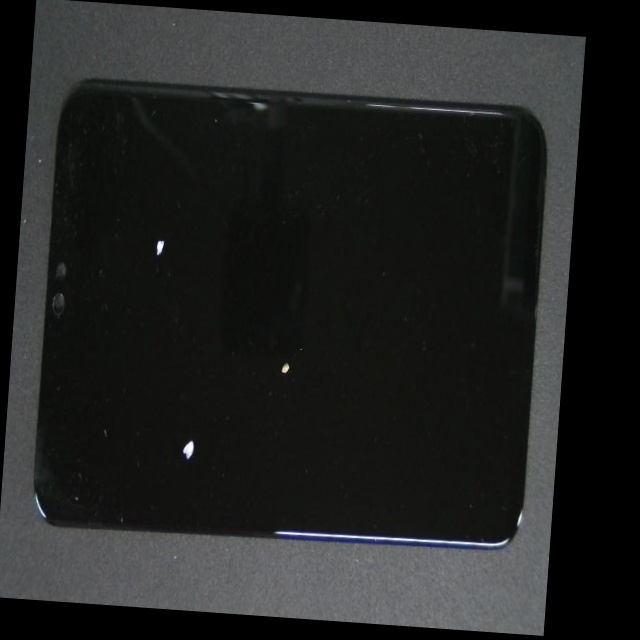stain: (144, 168, 432, 528), (87, 273, 307, 618), (83, 96, 219, 356)
